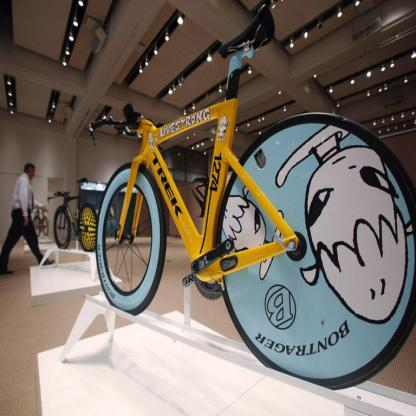Bike: (98, 11, 416, 397)
